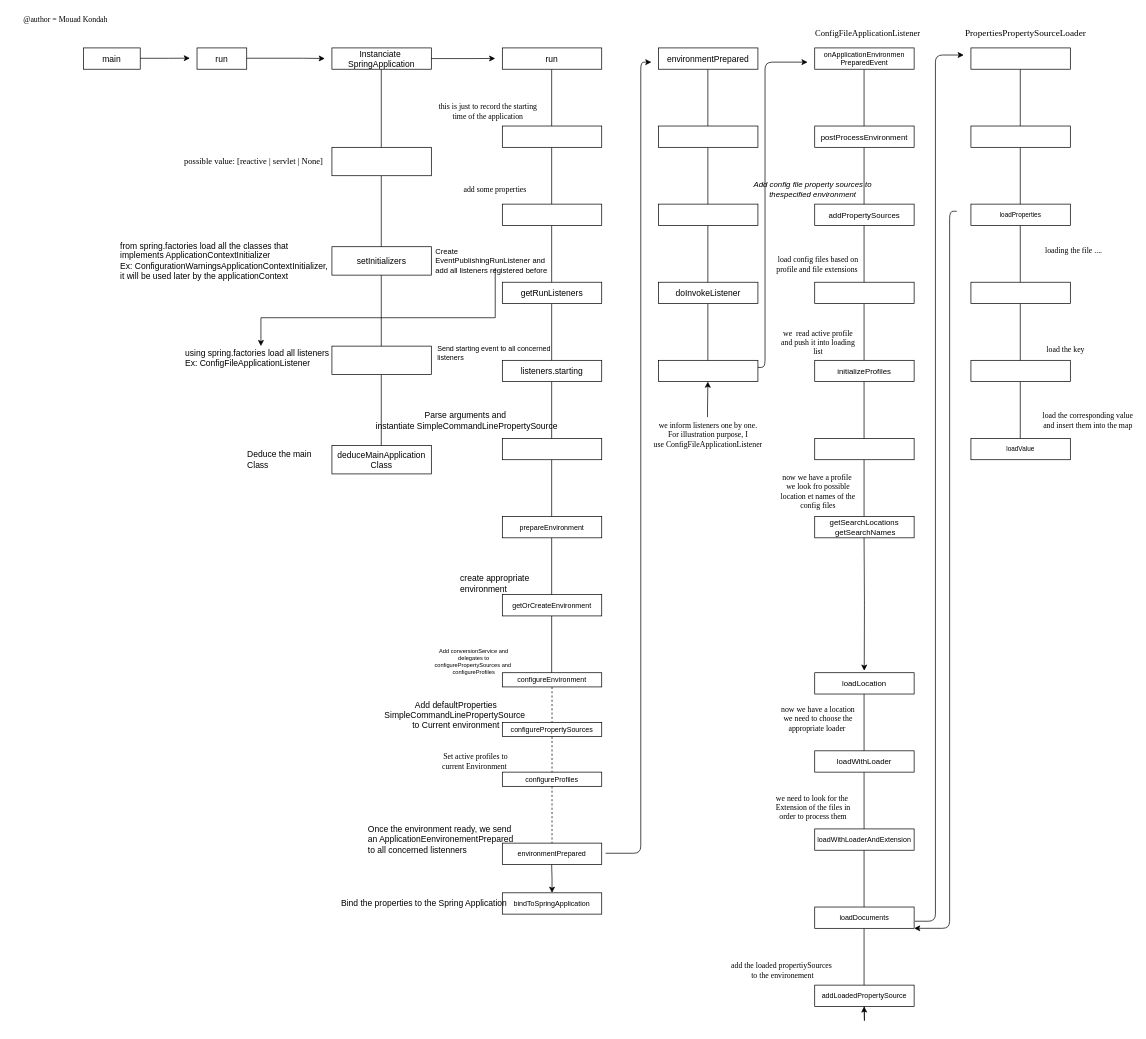
Some shapes in this 1146 by 1039 pixel diagram are drawn without their labels. The centre of each missing label's shape, as x and y in pixels:
"configureHeadlessProperty" goes at point (552, 214).
"Deduce WebApplication Type" goes at point (381, 161).
"DefaultApplicationArguments" goes at point (552, 449).
"invokeListener" goes at point (708, 214).
"listener.onApplicationEvent" goes at point (708, 371).
"load" goes at point (1020, 136).
"Loader(..).load()" goes at point (864, 293).
"loadKey" goes at point (1020, 371).
"loadProfile" goes at point (864, 449).
"MulticastEvents" goes at point (708, 136).
"OriginTrackedProperties Loader.load" goes at point (1020, 293).
"PropertiesPropertySource Loader" goes at point (1020, 58).
"setListeners" goes at point (381, 360).
"StopWatch.start" goes at point (552, 136).
